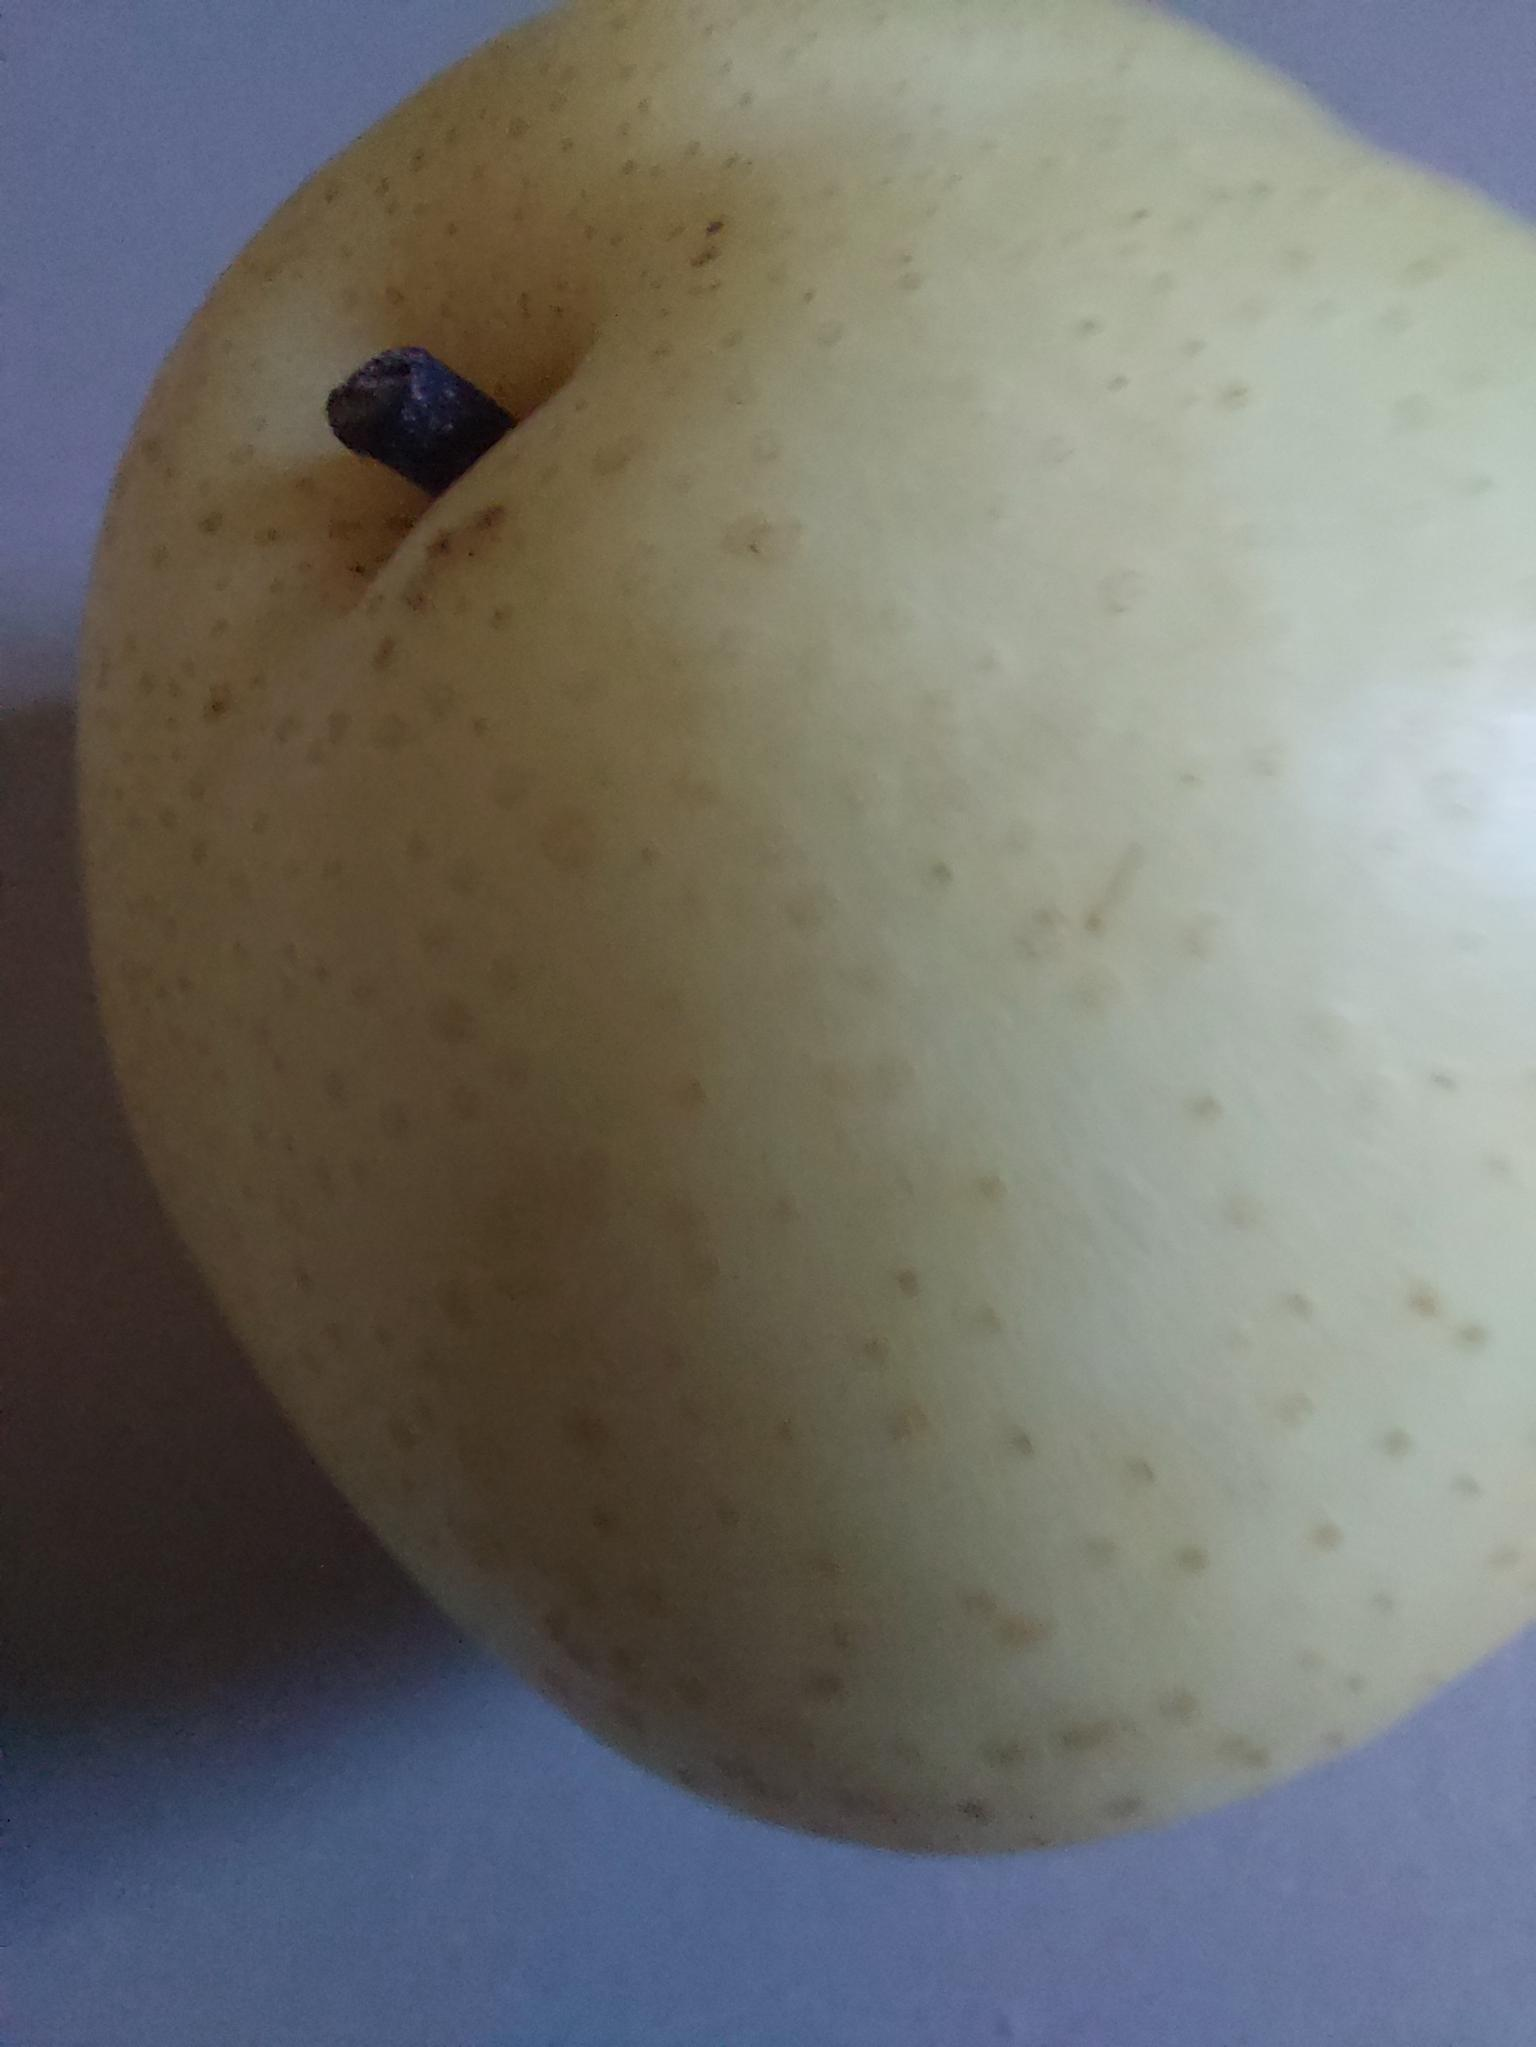Good Pear: (76, 0, 1536, 1863)
